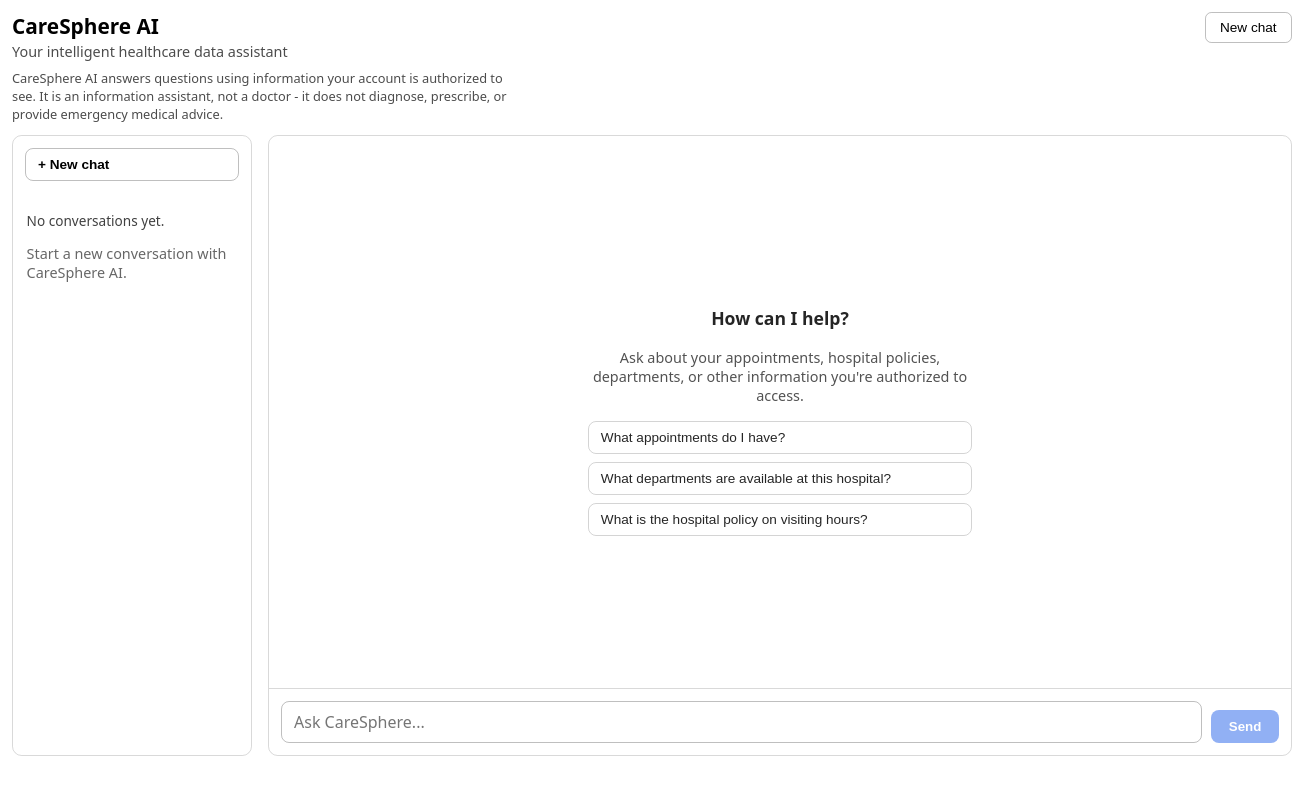
it: ChatPage › sends a question and renders the grounded answer
The width and height of the screenshot is (1304, 812).
Type "What appointments do I have?" into the text box named "Ask CareSphere AI a question" at (741, 722), box [281, 701, 1202, 743]
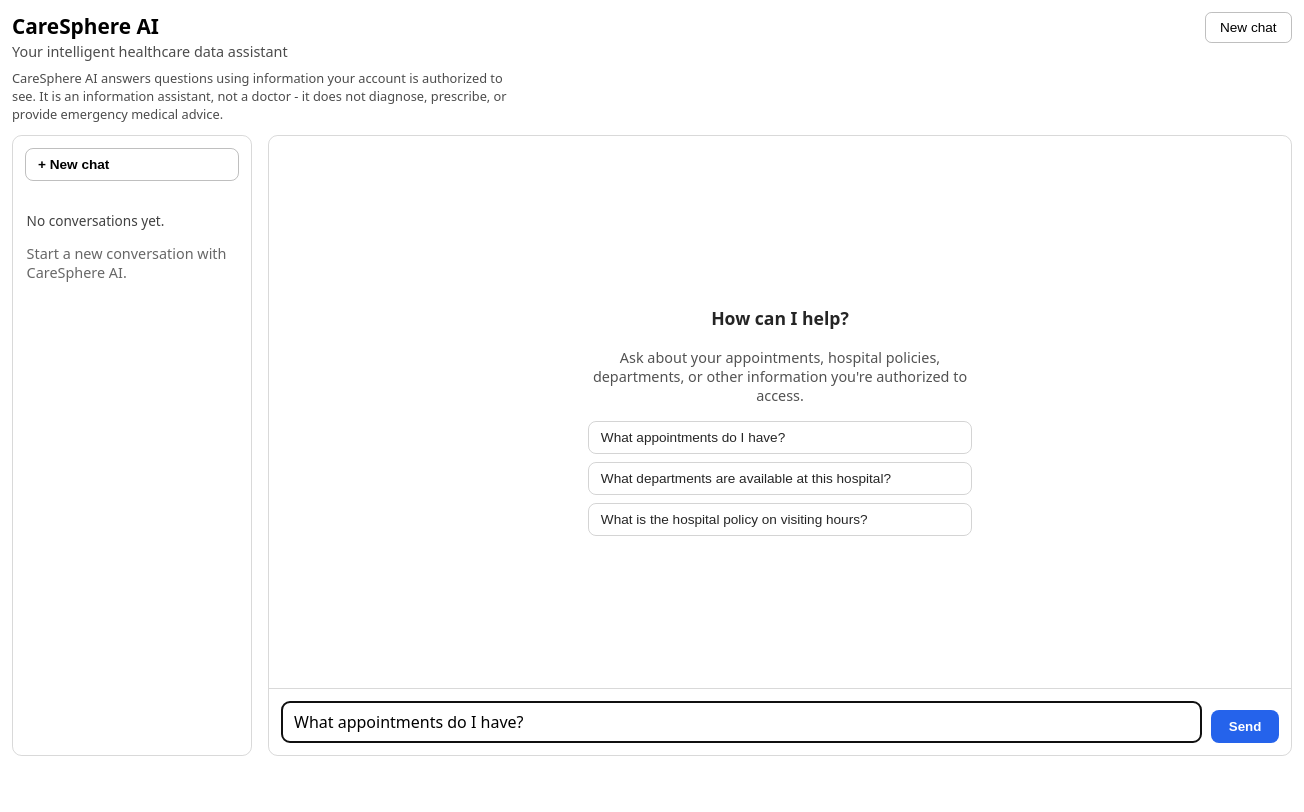
Click the button "Send" at (1245, 727), box [1211, 710, 1279, 743]
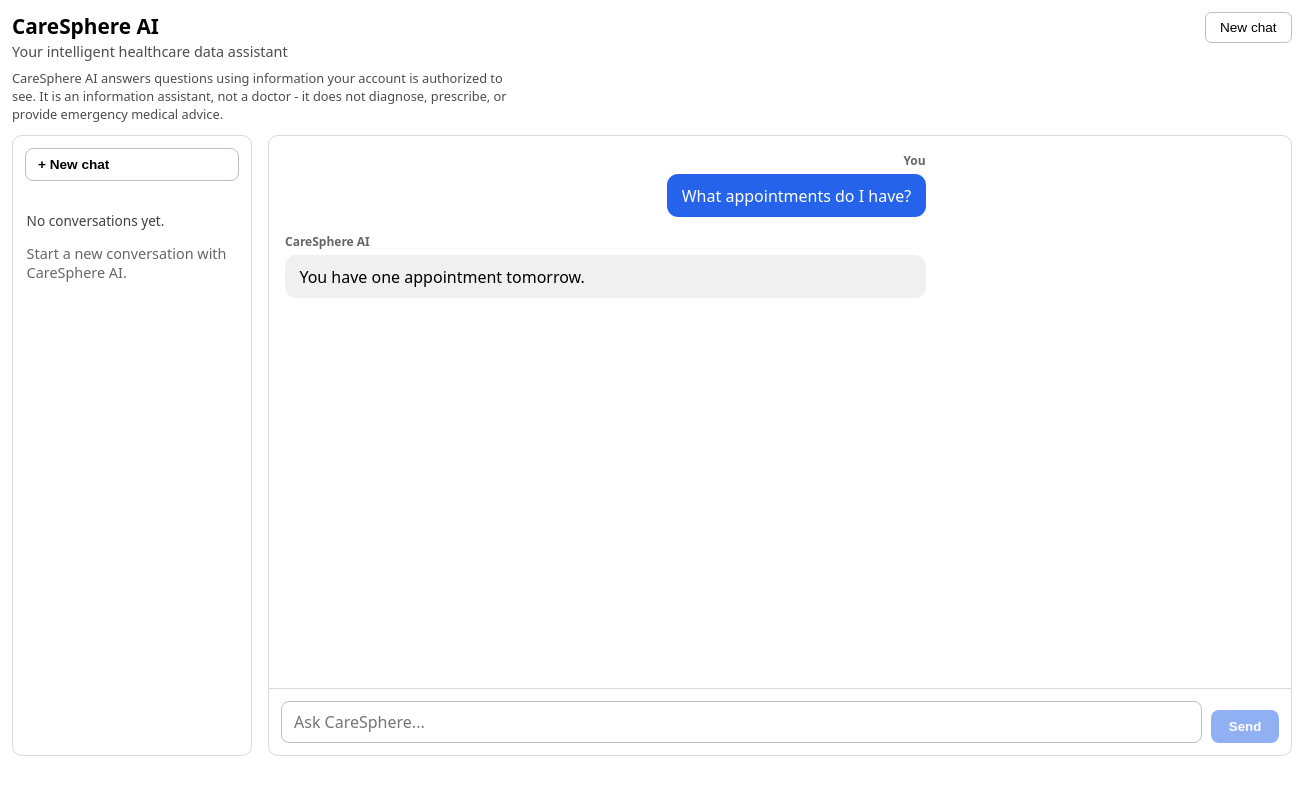
Check: the text "You have one appointment tomorrow." is shown, box [299, 266, 585, 288]
